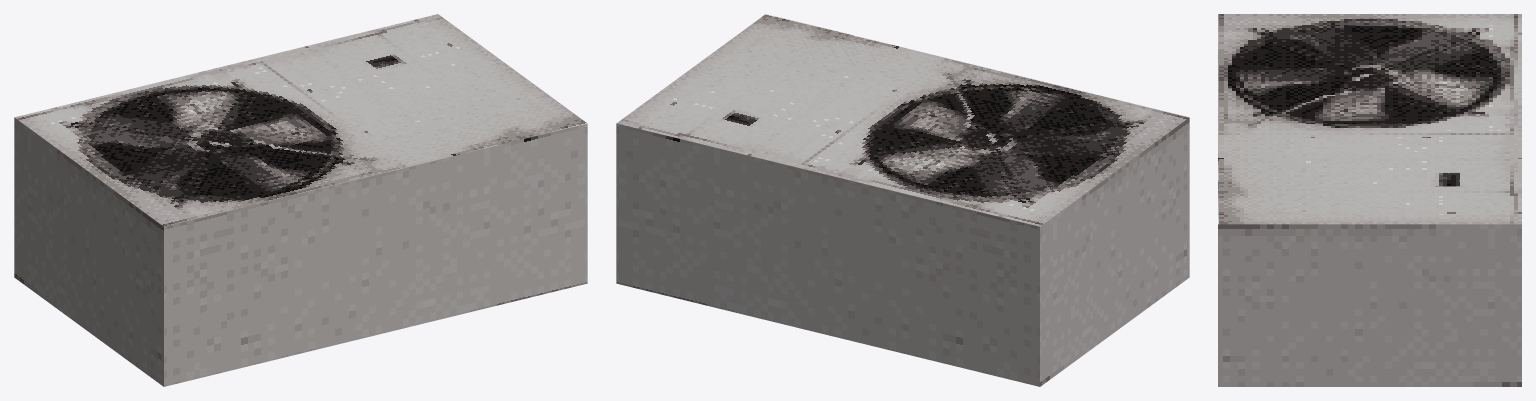
Rendered from Industrial_Air_Conditioner_1.glb.
3 views of the same model, side by side, from view 1: azimuth 30°, elevation 25°; view 2: azimuth 150°, elevation 25°; view 3: azimuth 270°, elevation 25° (orthographic).
Visible parts, largest first — view 1: Industrial Air Conditioner_1; view 2: Industrial Air Conditioner_1; view 3: Industrial Air Conditioner_1.
Part boxes in pixels (x1,y1,x2,y2): Industrial Air Conditioner_1: (14,14,587,386); Industrial Air Conditioner_1: (616,14,1189,386); Industrial Air Conditioner_1: (1218,14,1521,386).
Size of the model in its own units: 0.582 by 0.2103 by 0.3556.
1 material, 1 textured.
